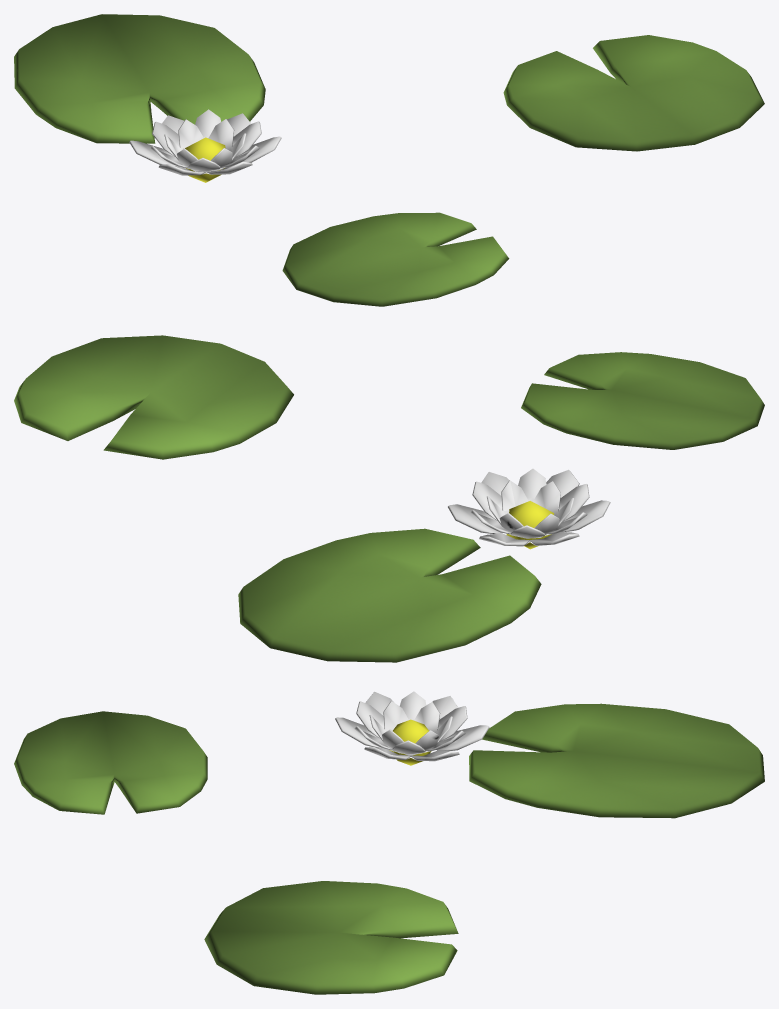
Rendered from lumme_keskikokoinen.fbx.
The picture shows the model from 3 angles, top to bottom: view 1: azimuth 30°, elevation 25°; view 2: azimuth 150°, elevation 25°; view 3: azimuth 270°, elevation 25°; orthographic projection. The views are drawn at different scales.
Visible parts, largest first — view 1: lumme_keskikokoinen; view 2: lumme_keskikokoinen; view 3: lumme_keskikokoinen.
Part boxes in pixels (box(x1,y1,x2,y2)): lumme_keskikokoinen: box(14, 14, 764, 306); lumme_keskikokoinen: box(14, 335, 764, 662); lumme_keskikokoinen: box(14, 691, 764, 994).
Bounding box in the file's own units: 1.76 × 0.1337 × 1.58.
